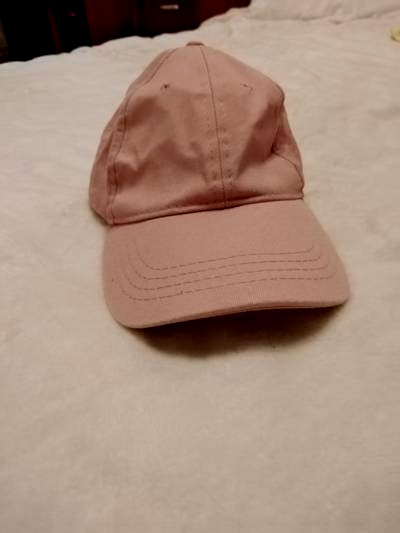Hat: (78, 46, 338, 349)
